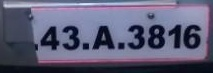character: (92, 25, 115, 50), (40, 25, 59, 51), (182, 23, 201, 49), (147, 23, 165, 49), (62, 25, 80, 50), (127, 24, 145, 49), (168, 24, 181, 49)
